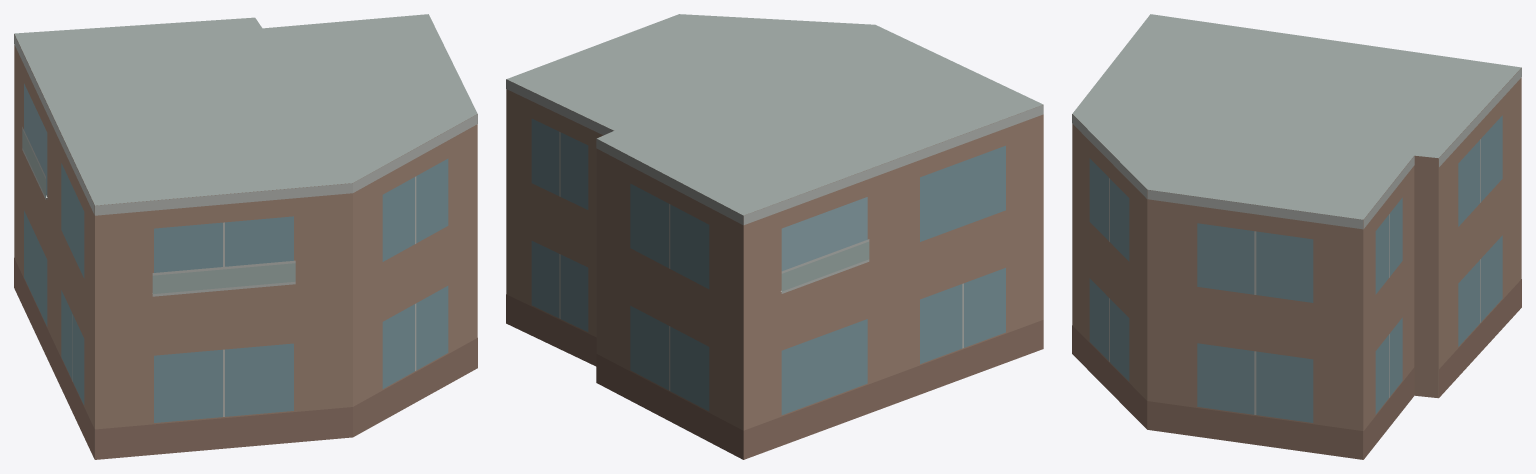
File: survey-upis-32654686.glb
The picture shows the model from 3 angles, left to right: view 1: azimuth 30°, elevation 25°; view 2: azimuth 150°, elevation 25°; view 3: azimuth 270°, elevation 25°; orthographic projection. The views are drawn at different scales.
Parts seen in each view (by area): view 1: survey-upis-32654686.tmp; view 2: survey-upis-32654686.tmp; view 3: survey-upis-32654686.tmp.
Boxes of the visible parts, <box> form: survey-upis-32654686.tmp: <box>14,14,477,459</box>; survey-upis-32654686.tmp: <box>506,14,1043,459</box>; survey-upis-32654686.tmp: <box>1072,14,1521,459</box>.
Size of the model in its own units: 11.22 by 6.1 by 10.36.
